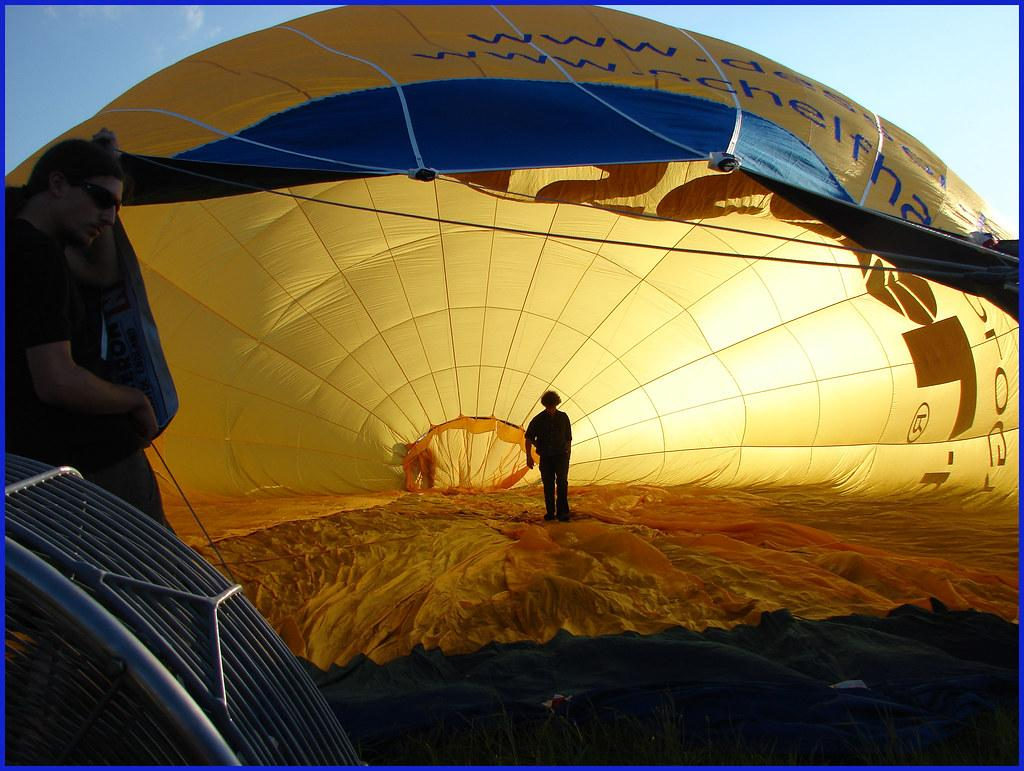balloon: (5, 3, 1024, 769)
